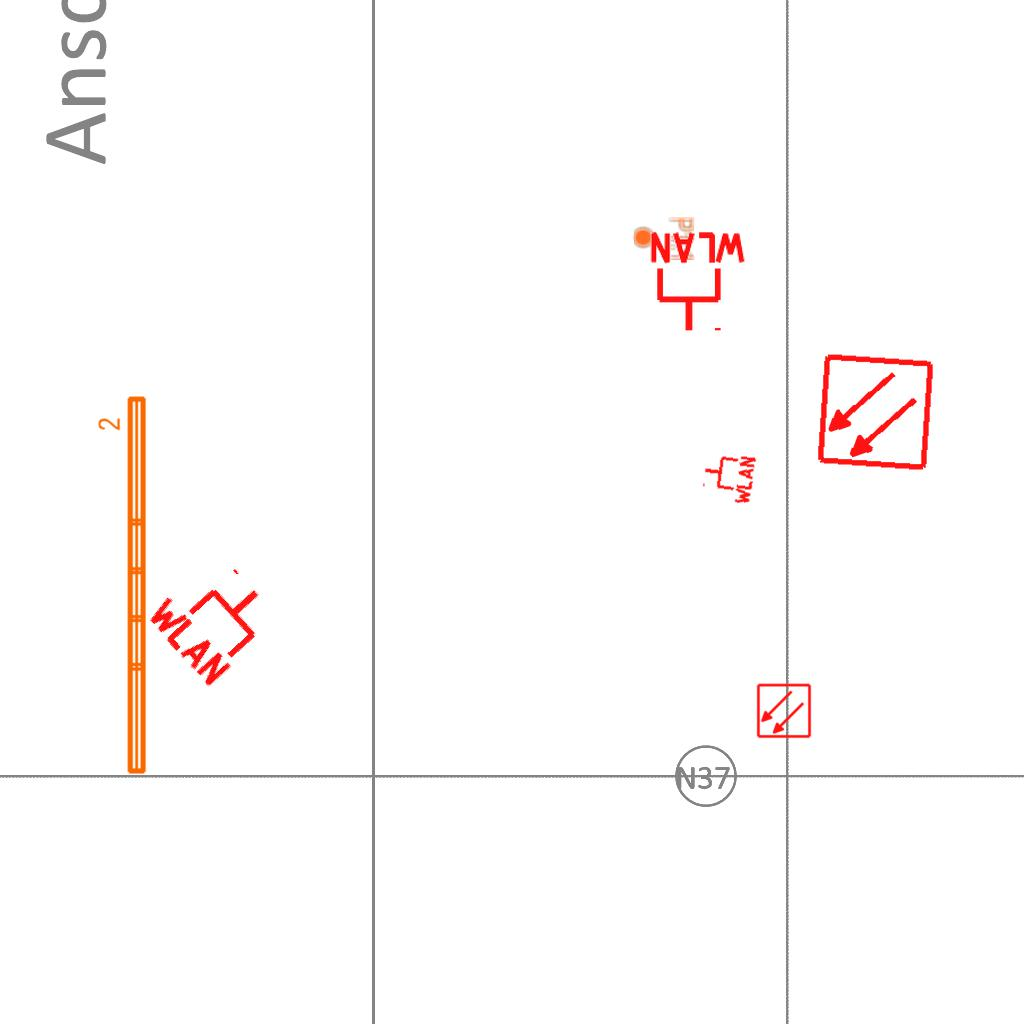Ambulanz_Pendelleuchte_LED: (96, 392, 152, 779)
Downlight_LED_Einbauleuchten_Flur: (632, 216, 696, 262)
RMO_Rauchmelder_optischer: (815, 352, 936, 473), (756, 683, 812, 739)
WLAN: (140, 544, 289, 692), (646, 230, 750, 335), (698, 448, 758, 508)
